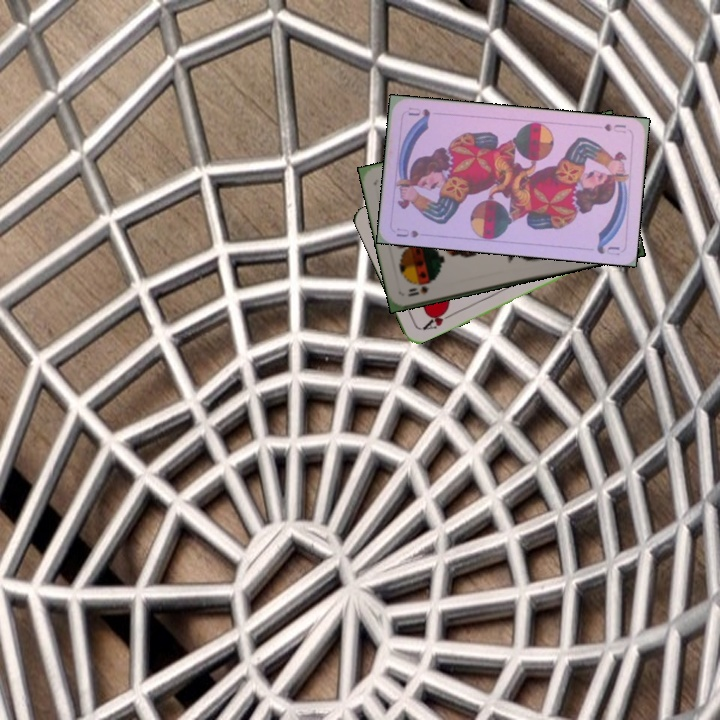HA: (419, 305, 456, 333)
SO: (404, 278, 435, 299)
SU: (392, 224, 421, 240), (600, 119, 628, 134)
